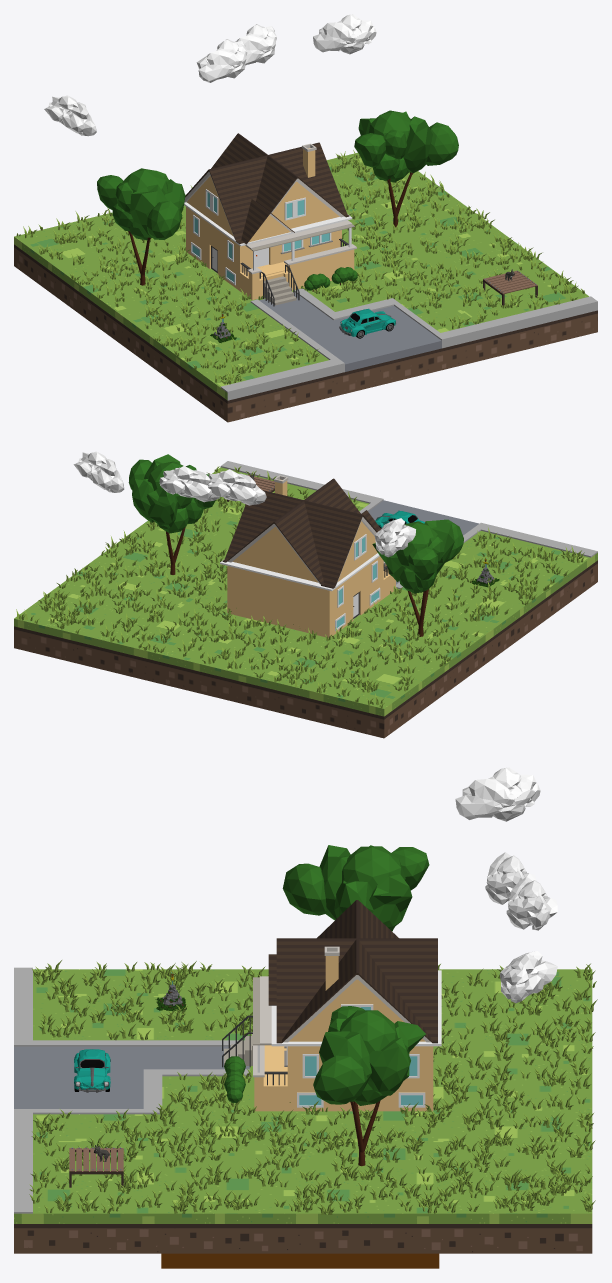
The picture shows the model from 3 angles, top to bottom: view 1: azimuth 30°, elevation 25°; view 2: azimuth 150°, elevation 25°; view 3: azimuth 270°, elevation 25°; orthographic projection. The views are drawn at different scales.
Parts seen in each view (by area): view 1: Cube.006, Cube.235, Circle.012_Grass_0.192, Cube.007, tree, tree.001, VEHICLES_VOLKSWAGEN, Cube.009; view 2: Cube.006, Cube.235, Circle.012_Grass_0.192, Cube.007, tree.001, tree, VEHICLES_VOLKSWAGEN; view 3: Cube.006, Circle.012_Grass_0.192, Cube.235, tree, Cube.007, tree.001, UNDERGROUND_ART_PIECE_VAN_GOGH, VEHICLES_VOLKSWAGEN, Cube.009.
Boxes of the visible parts, bbox=[...] form: Cube.006: bbox=[14, 152, 597, 422]; Cube.235: bbox=[184, 133, 356, 306]; Circle.012_Grass_0.192: bbox=[16, 150, 584, 384]; Cube.007: bbox=[44, 14, 376, 136]; tree: bbox=[354, 110, 458, 227]; tree.001: bbox=[97, 168, 185, 285]; VEHICLES_VOLKSWAGEN: bbox=[339, 308, 396, 338]; Cube.009: bbox=[483, 270, 537, 305]; Cube.006: bbox=[14, 461, 597, 738]; Cube.235: bbox=[220, 475, 395, 637]; Circle.012_Grass_0.192: bbox=[16, 466, 584, 708]; Cube.007: bbox=[73, 451, 415, 557]; tree.001: bbox=[372, 519, 463, 636]; tree: bbox=[128, 454, 215, 574]; VEHICLES_VOLKSWAGEN: bbox=[375, 510, 424, 528]; Cube.006: bbox=[14, 967, 592, 1253]; Circle.012_Grass_0.192: bbox=[29, 960, 597, 1214]; Cube.235: bbox=[222, 900, 441, 1111]; tree: bbox=[313, 1006, 425, 1166]; Cube.007: bbox=[455, 767, 557, 1003]; tree.001: bbox=[282, 845, 429, 931]; UNDERGROUND_ART_PIECE_VAN_GOGH: bbox=[161, 1253, 439, 1268]; VEHICLES_VOLKSWAGEN: bbox=[74, 1049, 110, 1092]; Cube.009: bbox=[69, 1147, 123, 1187].
Size of the model in its own units: 4071 by 2301 by 4040.
41 materials, 4 textured.
